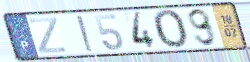4: (130, 10, 158, 52)
5: (92, 13, 125, 51)
9: (186, 7, 218, 48)
I: (75, 14, 96, 53)
O: (151, 9, 190, 51)
Z: (28, 16, 68, 55)
